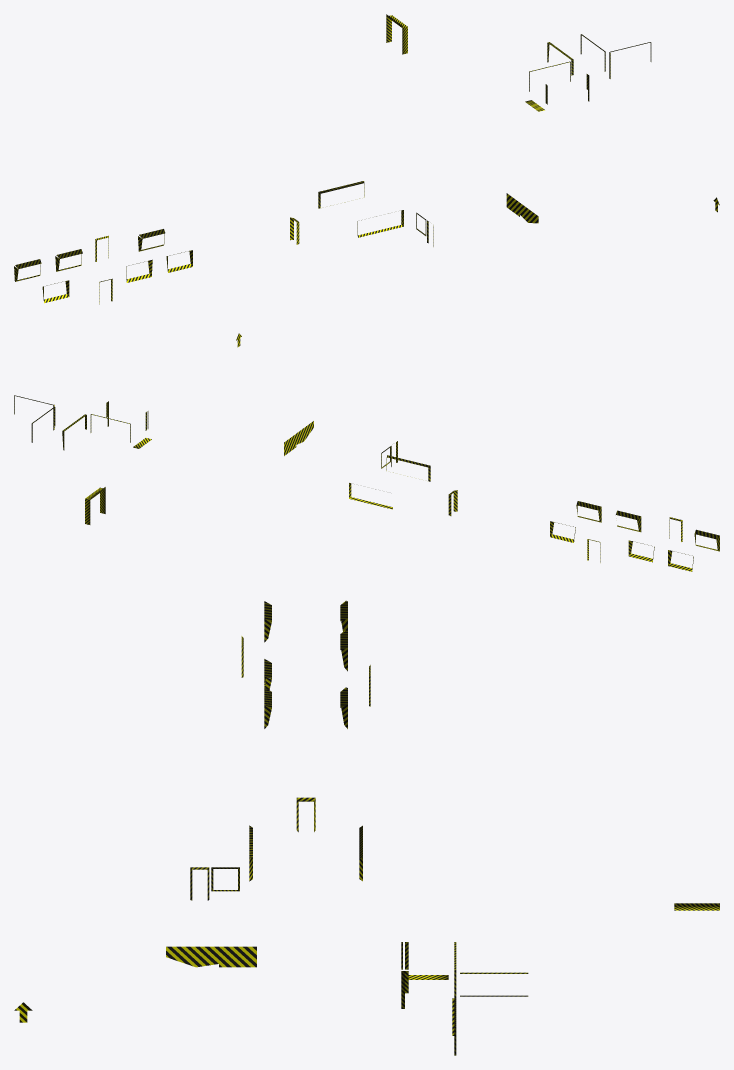
The model's file is Facility_Alpha_46.glb.
3 views of the same model, one above another, from view 1: azimuth 30°, elevation 25°; view 2: azimuth 150°, elevation 25°; view 3: azimuth 270°, elevation 25° (orthographic). The views are drawn at different scales.
Parts seen in each view (by area): view 1: Facility_Alpha_46; view 2: Facility_Alpha_46; view 3: Facility_Alpha_46.
Part boxes in pixels (x1,y1,x2,y2): Facility_Alpha_46: (14,14,719,304); Facility_Alpha_46: (14,333,719,571); Facility_Alpha_46: (14,600,719,1055).
Size of the model in its own units: 1178 by 108 by 745.
Materials: 1 (1 with a texture image).
